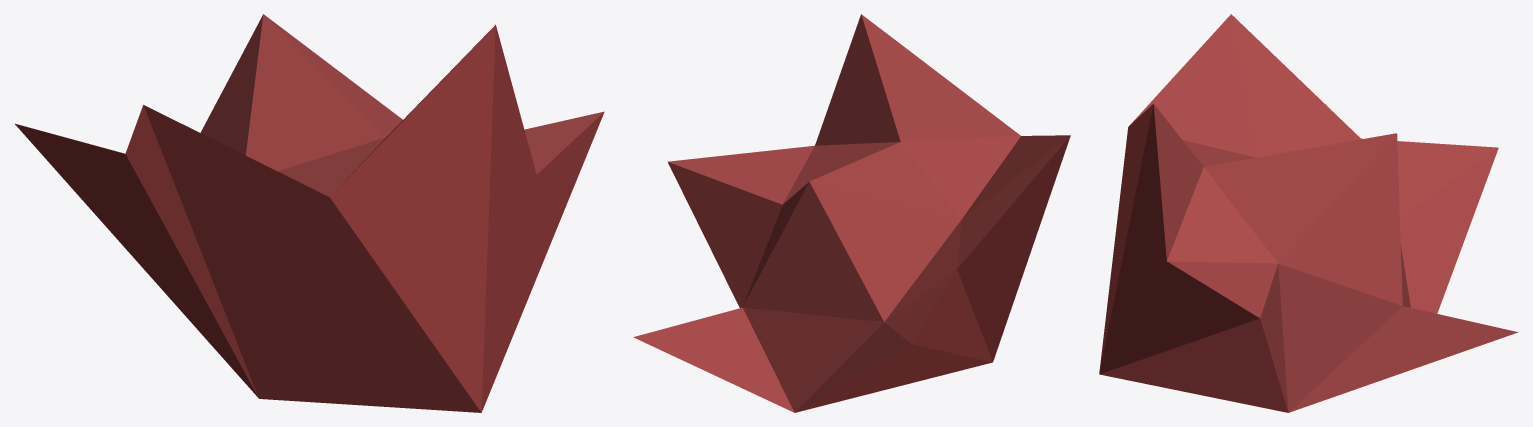
Rendered from BushAutumn1.fbx.
3 views of the same model, side by side, from view 1: azimuth 30°, elevation 25°; view 2: azimuth 150°, elevation 25°; view 3: azimuth 270°, elevation 25° (orthographic). The views are drawn at different scales.
Parts seen in each view (by area): view 1: BushAutumn1; view 2: BushAutumn1; view 3: BushAutumn1.
Part boxes in pixels (box(x1,y1,x2,y2)): BushAutumn1: box(15, 14, 604, 412); BushAutumn1: box(633, 14, 1070, 412); BushAutumn1: box(1099, 14, 1518, 412).
Size of the model in its own units: 0.6828 by 0.4811 by 0.6299.
